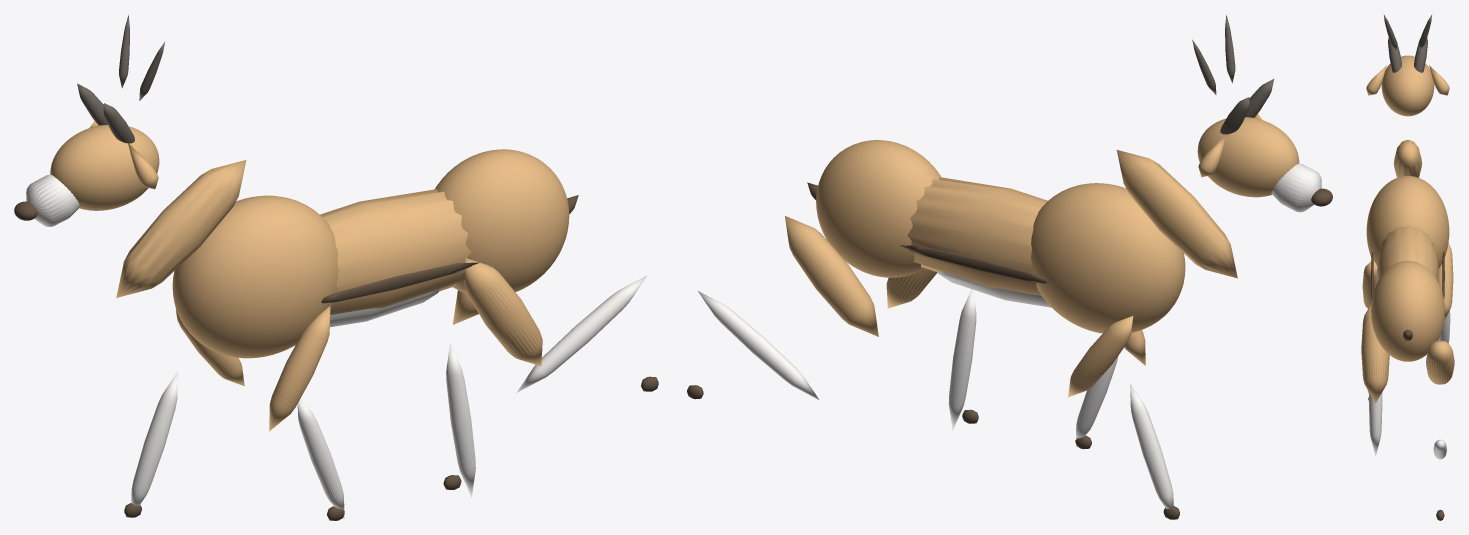
The model's file is gazelle.glb.
3 renders of one model, left to right at view 1: azimuth 30°, elevation 25°; view 2: azimuth 150°, elevation 25°; view 3: azimuth 270°, elevation 25°, orthographic. The views are drawn at different scales.
Parts seen in each view (by area): view 1: Gazelle; view 2: Gazelle; view 3: Gazelle.
Part boxes in pixels (x1,y1,x2,y2): Gazelle: (14, 15, 658, 520); Gazelle: (687, 15, 1332, 520); Gazelle: (1361, 14, 1454, 520).
Size of the model in its own units: 3.14 by 2.37 by 0.5788.
